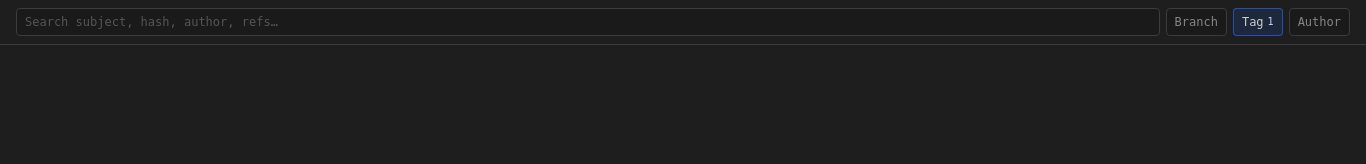
Test: CommitFilterBar › shows a selection count badge and a Clear button once something is selected
Click the button named "Tag1". click: {"x": 1258, "y": 22}
box: [1233,8,1283,36]
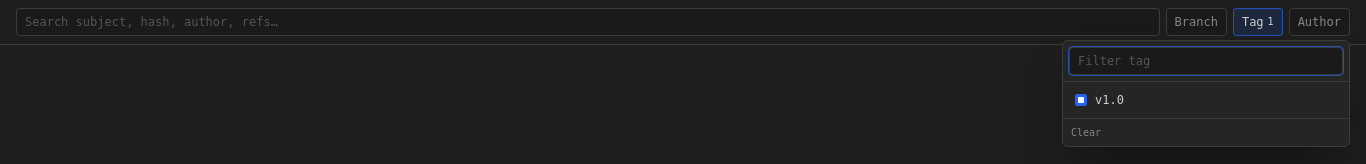
Expected: the button "Clear" is shown, [1063,118,1349,146]
